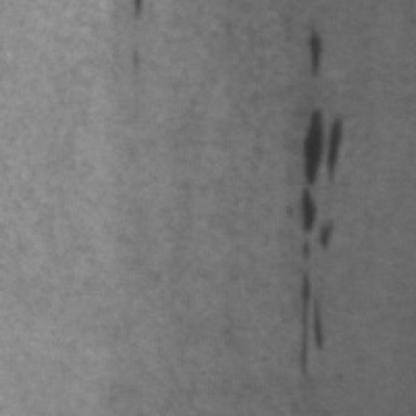inclusion: (291, 183, 343, 385), (289, 100, 347, 185), (296, 21, 326, 79)
